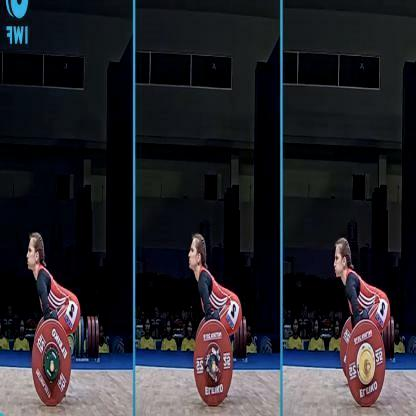Barbell: (355, 340, 378, 386), (203, 349, 221, 381), (43, 347, 55, 381)
